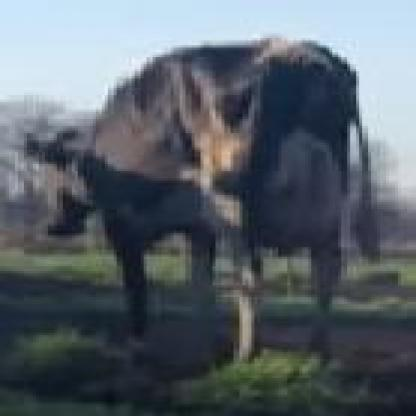cow: (45, 40, 359, 362)
